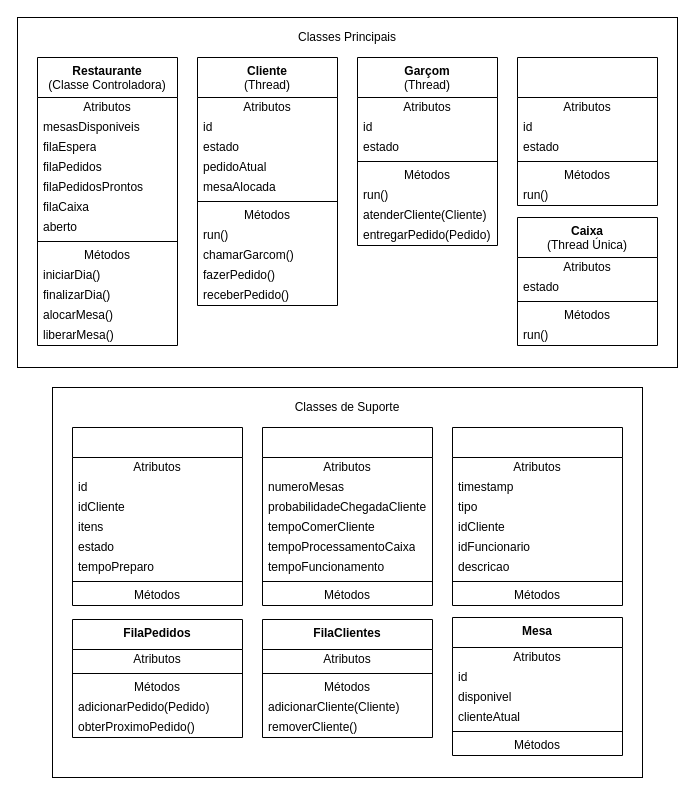
The diagram is 695 pixels wide and 795 high, and some of its shapes have lost their labels. The shapes that lost their labels are listed below. From the top down, each one's box as (x1, y1, x2, y2) in pixels, then its label:
(516, 56, 658, 206): Chef (Thread)
(72, 426, 242, 606): Pedido
(262, 426, 432, 606): Configuracao Restaurante
(452, 426, 622, 606): EventoRestaurante
